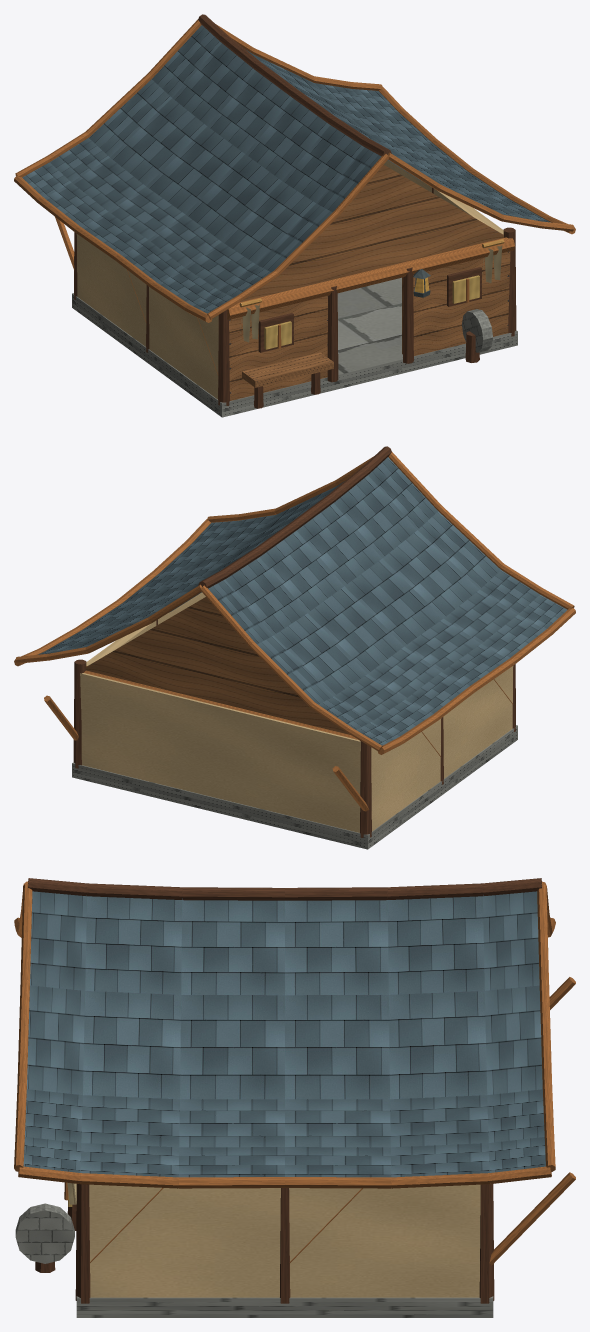
Rendered from workshop.glb.
3 renders of one model, top to bottom at view 1: azimuth 30°, elevation 25°; view 2: azimuth 150°, elevation 25°; view 3: azimuth 270°, elevation 25°, orthographic. The views are drawn at different scales.
Parts seen in each view (by area): view 1: workshop_F4; view 2: workshop_F4; view 3: workshop_F4.
Boxes of the visible parts, left/top/right/bottom form: workshop_F4: left=14, top=14, right=575, bottom=417; workshop_F4: left=14, top=446, right=575, bottom=849; workshop_F4: left=14, top=878, right=575, bottom=1317.
Bounding box in the file's own units: 10.39 × 6.56 × 9.84.
1 material, 1 textured.
